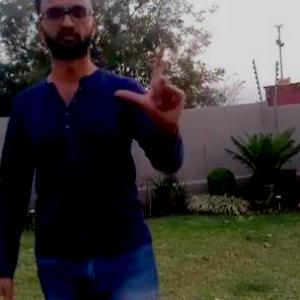land_hand: (113, 38, 195, 122)
